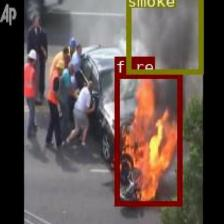fire: (114, 73, 180, 205)
smoke: (125, 0, 201, 72)
